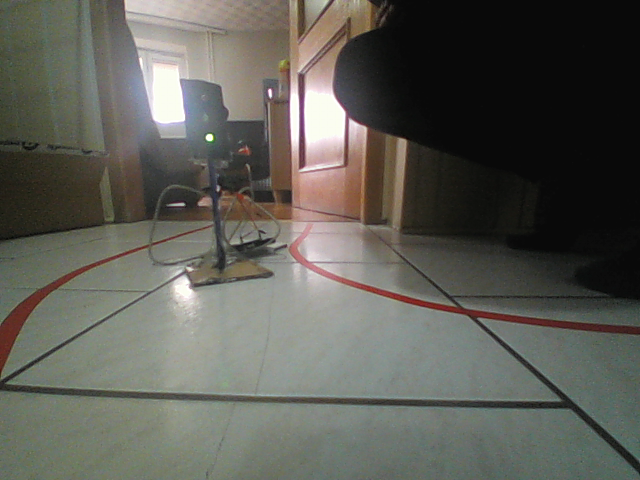green_sign: (176, 76, 234, 161)
